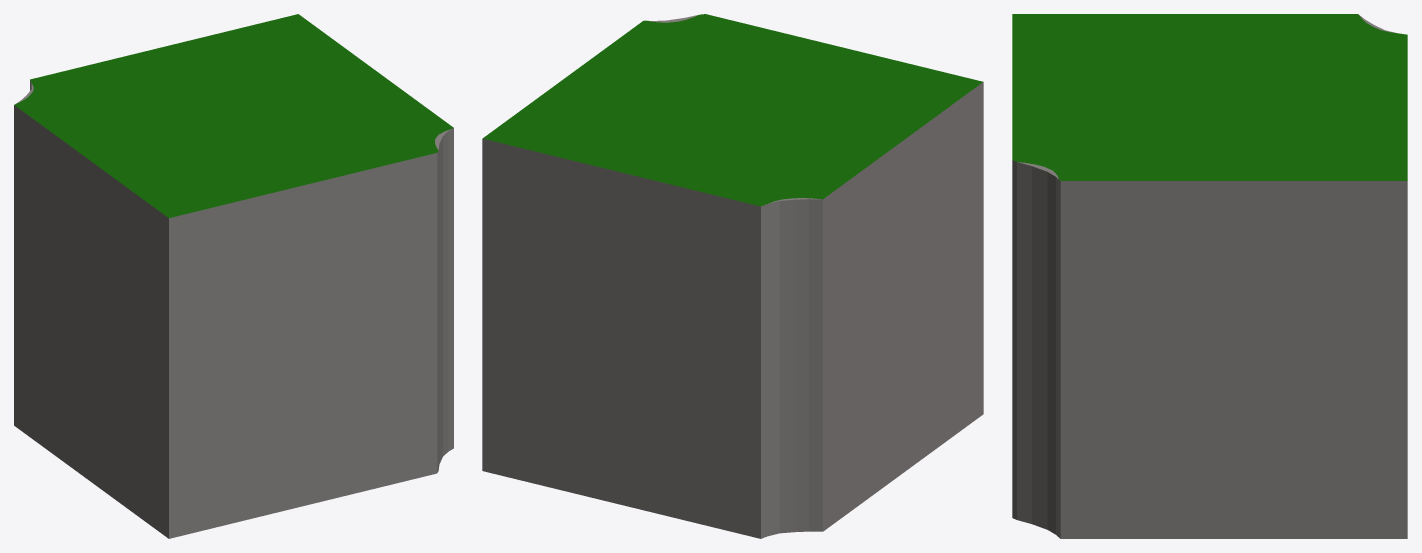
Rendered from MirrorWedge.fbx.
The picture shows the model from 3 angles, left to right: view 1: azimuth 30°, elevation 25°; view 2: azimuth 150°, elevation 25°; view 3: azimuth 270°, elevation 25°; orthographic projection. The views are drawn at different scales.
Parts seen in each view (by area): view 1: Plane.026; view 2: Plane.026; view 3: Plane.026.
Boxes of the visible parts, bbox=[...] form: Plane.026: bbox=[14, 14, 453, 538]; Plane.026: bbox=[482, 14, 983, 538]; Plane.026: bbox=[1012, 14, 1407, 538].
Size of the model in its own units: 100 by 100 by 100.
